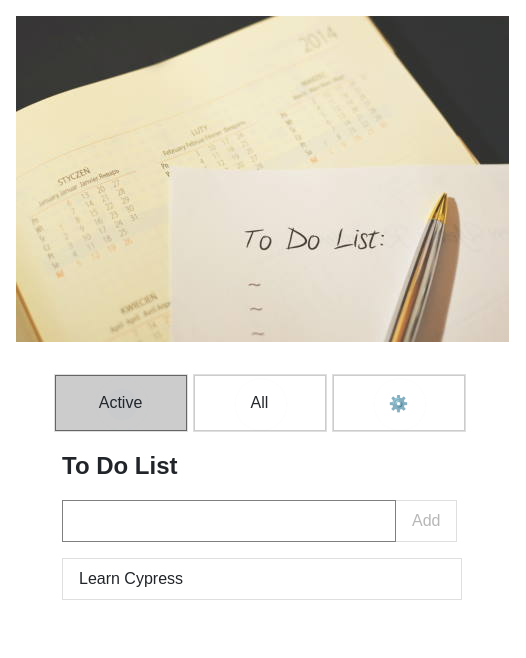
Test: To Do List › Can add a new to-do with button
Type "A new to-do with button" into the 1st field with test id "new-todo". click: (229, 521)
box: [62,500,396,542]
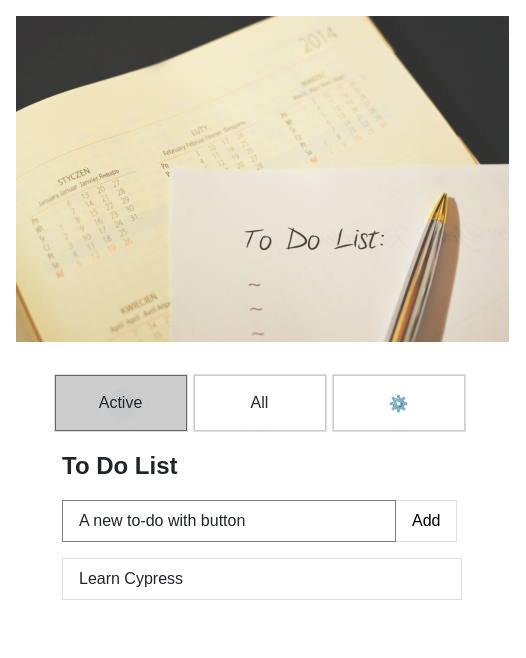
Click the button with test id "btn-add-todo". click: (427, 521)
box: [395,500,458,542]
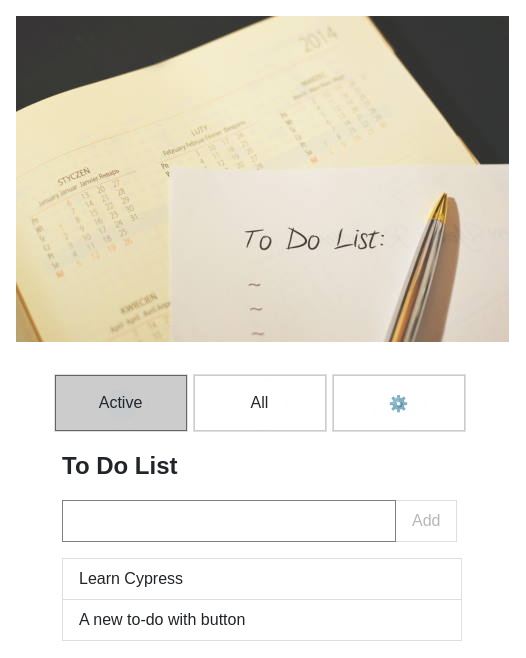
Now the list item "A new to-do with button" is shown, box [62,600,462,641]
